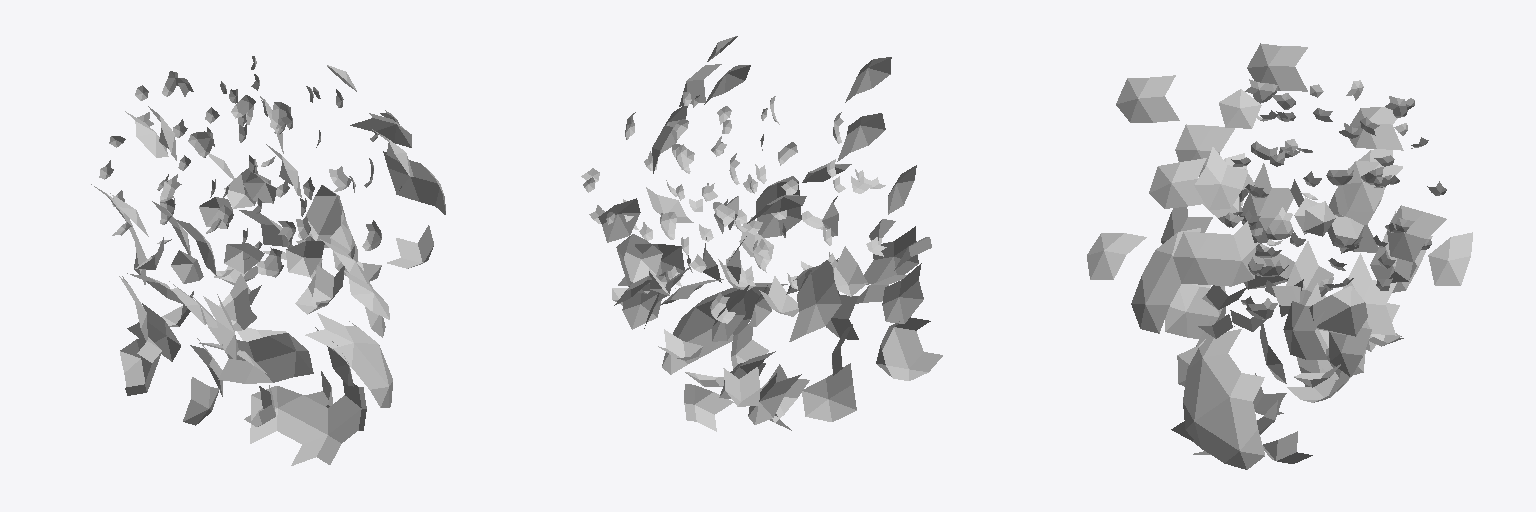
File: azuki_unarmed_exploding_000007.obj
3 views of the same model, side by side, from view 1: azimuth 30°, elevation 25°; view 2: azimuth 150°, elevation 25°; view 3: azimuth 270°, elevation 25° (orthographic).
Visible parts, largest first — view 1: Body_Icosphere.001, Leg.L_Icosphere.005, Leg.R_Icosphere.002, Eye.L_Icosphere.006, Eye.R_Icosphere.004; view 2: Body_Icosphere.001, Leg.L_Icosphere.005, Leg.R_Icosphere.002, Eye.R_Icosphere.004, Eye.L_Icosphere.006; view 3: Body_Icosphere.001, Leg.R_Icosphere.002, Eye.R_Icosphere.004, Eye.L_Icosphere.006, Leg.L_Icosphere.005.
Boxes of the visible parts, <box> form: Body_Icosphere.001: <box>91,65,445,465</box>; Leg.L_Icosphere.005: <box>120,172,328,426</box>; Leg.R_Icosphere.002: <box>199,168,433,407</box>; Eye.L_Icosphere.006: <box>99,71,314,277</box>; Eye.R_Icosphere.004: <box>205,56,401,258</box>; Body_Icosphere.001: <box>598,36,931,430</box>; Leg.L_Icosphere.005: <box>703,196,942,422</box>; Leg.R_Icosphere.002: <box>612,187,798,431</box>; Eye.R_Icosphere.004: <box>581,92,798,288</box>; Eye.L_Icosphere.006: <box>666,96,886,323</box>; Body_Icosphere.001: <box>1087,43,1472,469</box>; Leg.R_Icosphere.002: <box>1198,197,1416,463</box>; Eye.R_Icosphere.004: <box>1225,108,1414,319</box>; Eye.L_Icosphere.006: <box>1231,79,1446,276</box>; Leg.L_Icosphere.005: <box>1203,168,1403,414</box>.
Bounding box in the file's own units: 4.08 × 4.89 × 4.46.